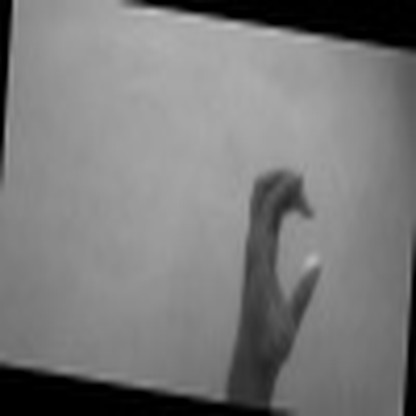c: (233, 156, 332, 372)
